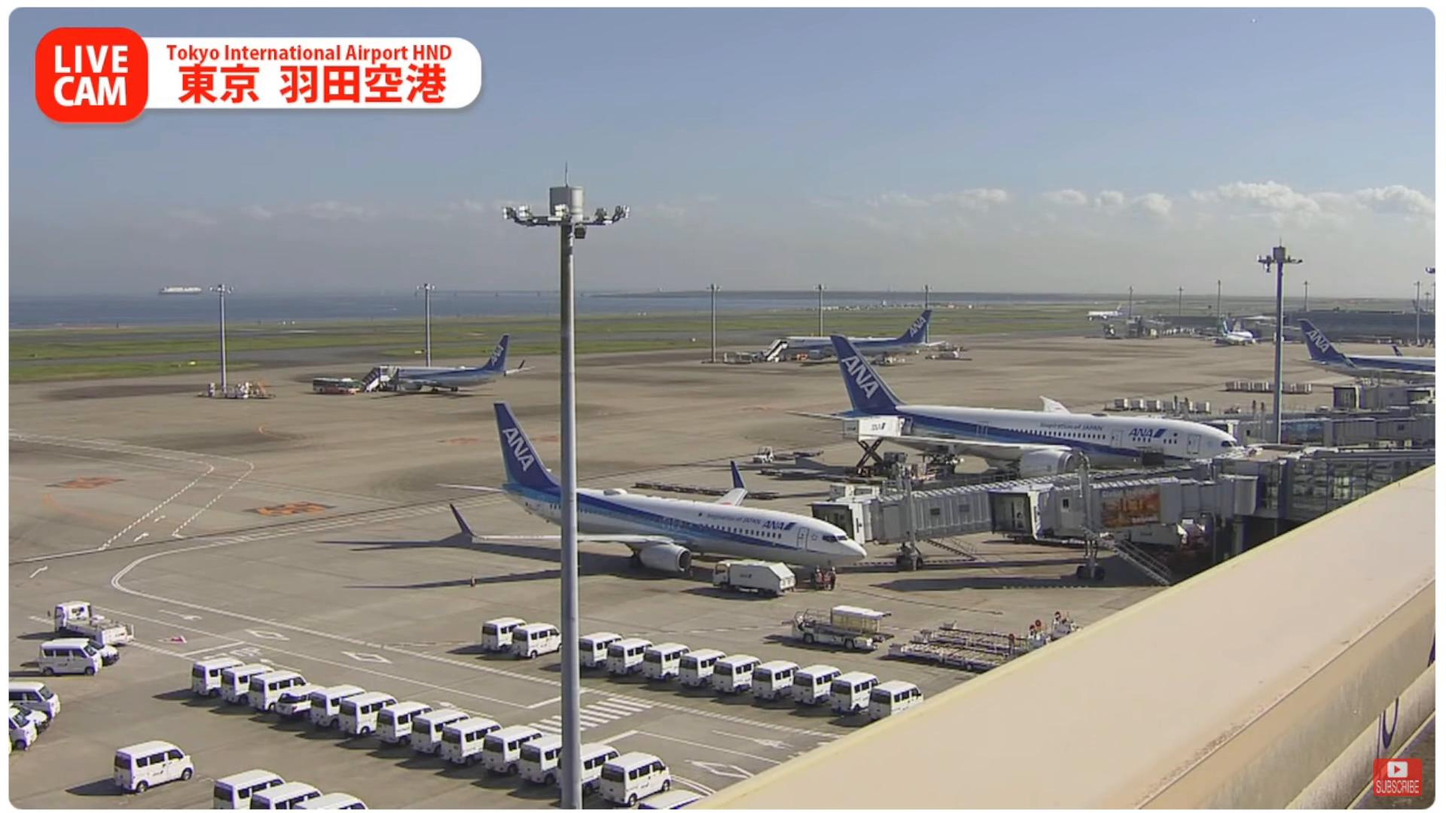Aerobridge: (812, 458, 1220, 543), (991, 451, 1256, 537)
Airplane: (446, 405, 867, 590)
Baggage truck: (708, 558, 800, 596)
JCPL: (918, 616, 1075, 656), (890, 639, 1018, 670)
Skyloader: (780, 603, 894, 653)
Window: (1290, 445, 1435, 519)
